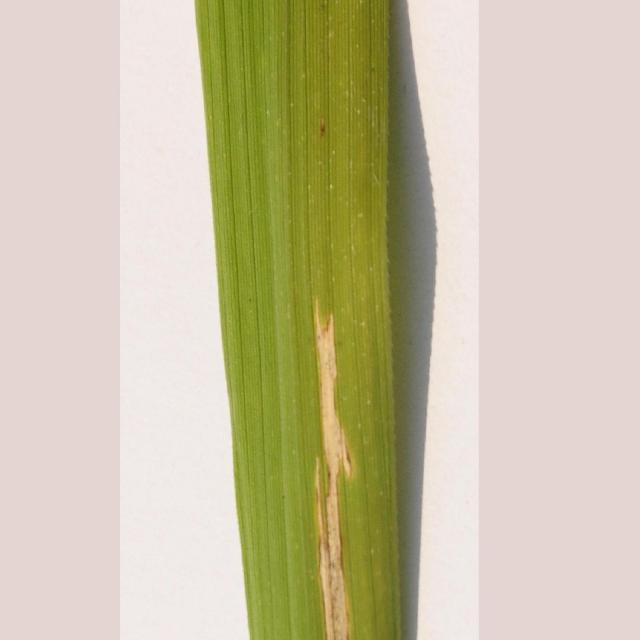leaf blight: (296, 297, 394, 640)
